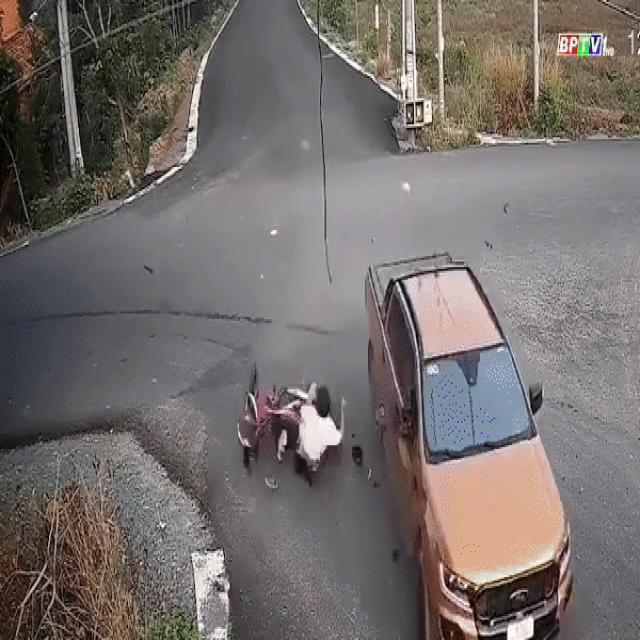multiple_accident: (229, 252, 575, 640)
